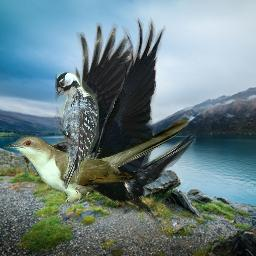Crow: (41, 16, 196, 239)
Cuckoo: (4, 118, 189, 203)
Woodpecker: (55, 72, 99, 189)
